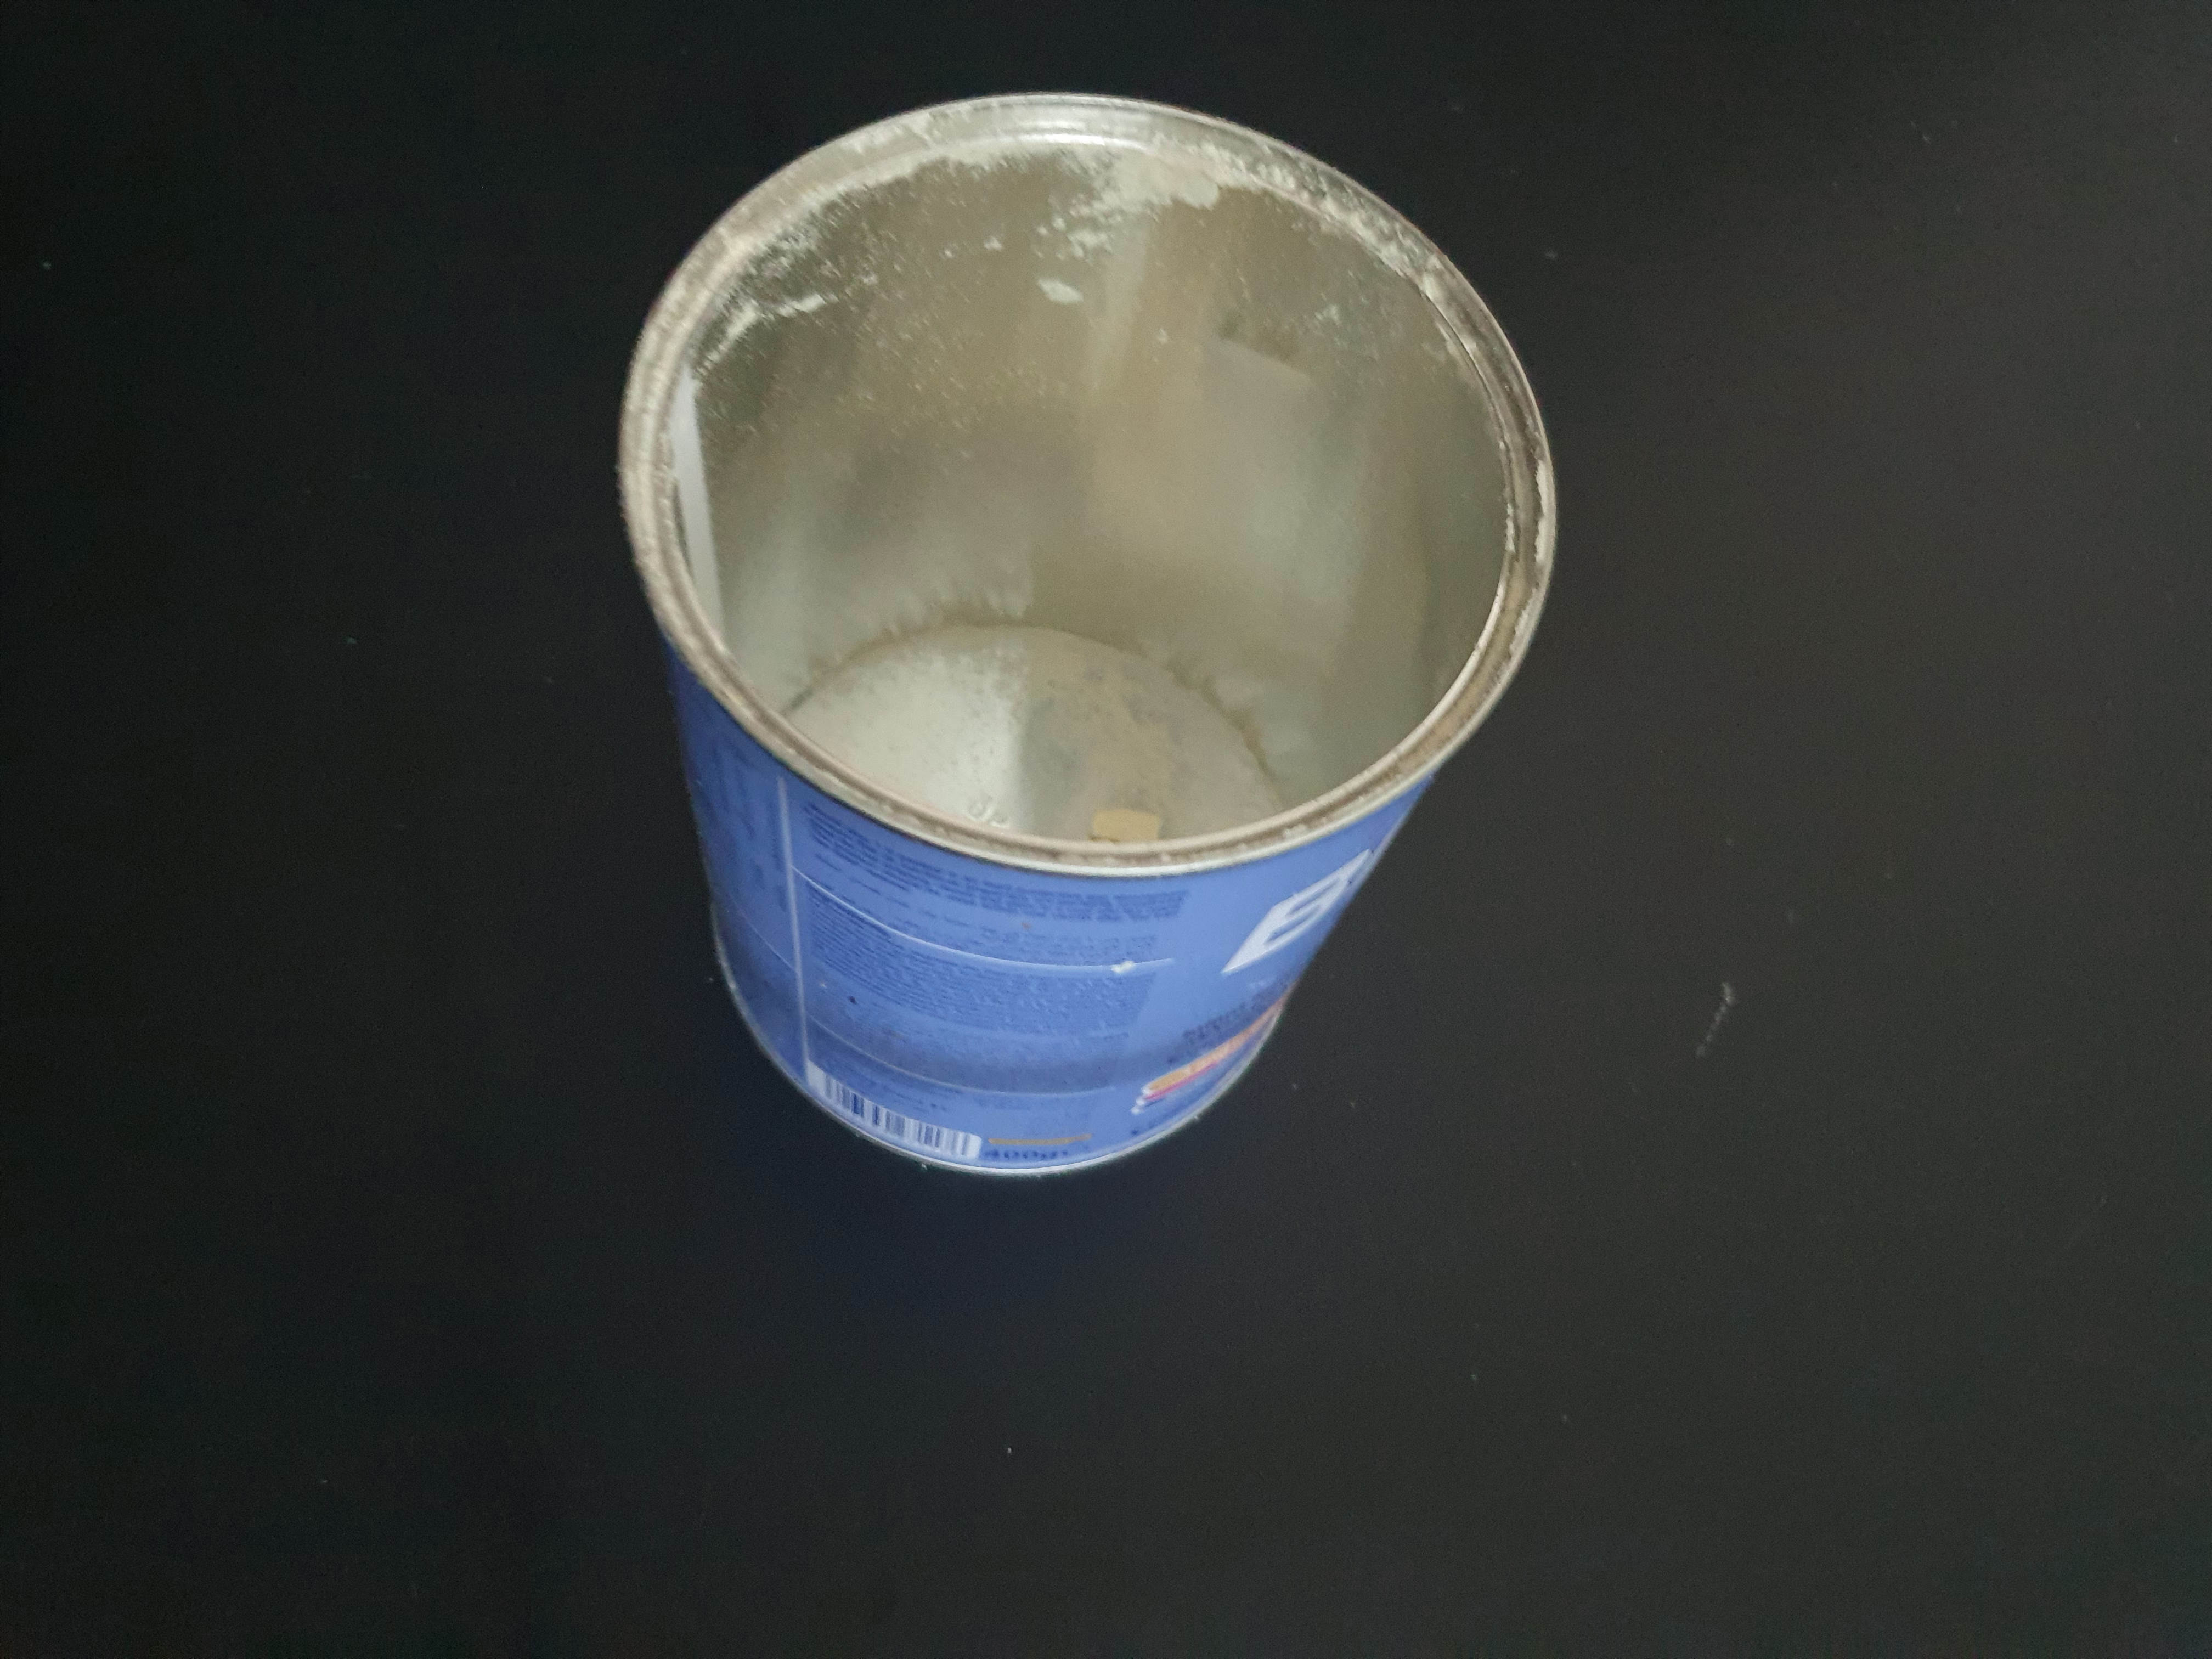metal: (516, 56, 1588, 1276)
